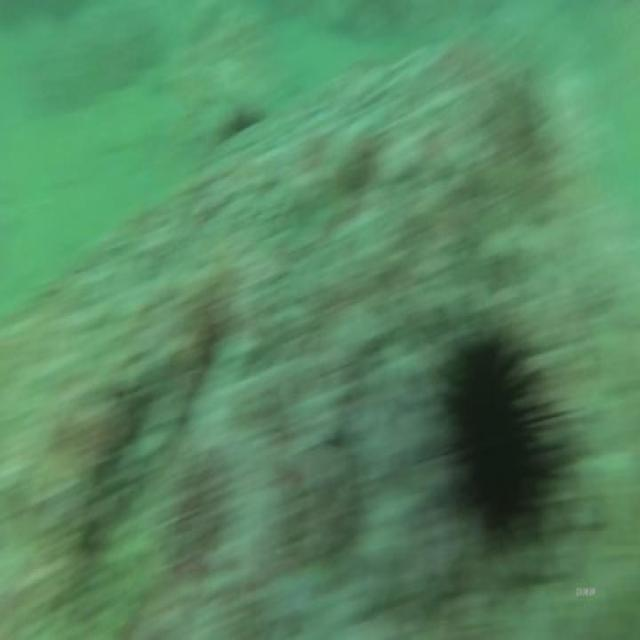echinus: (432, 314, 570, 561)
